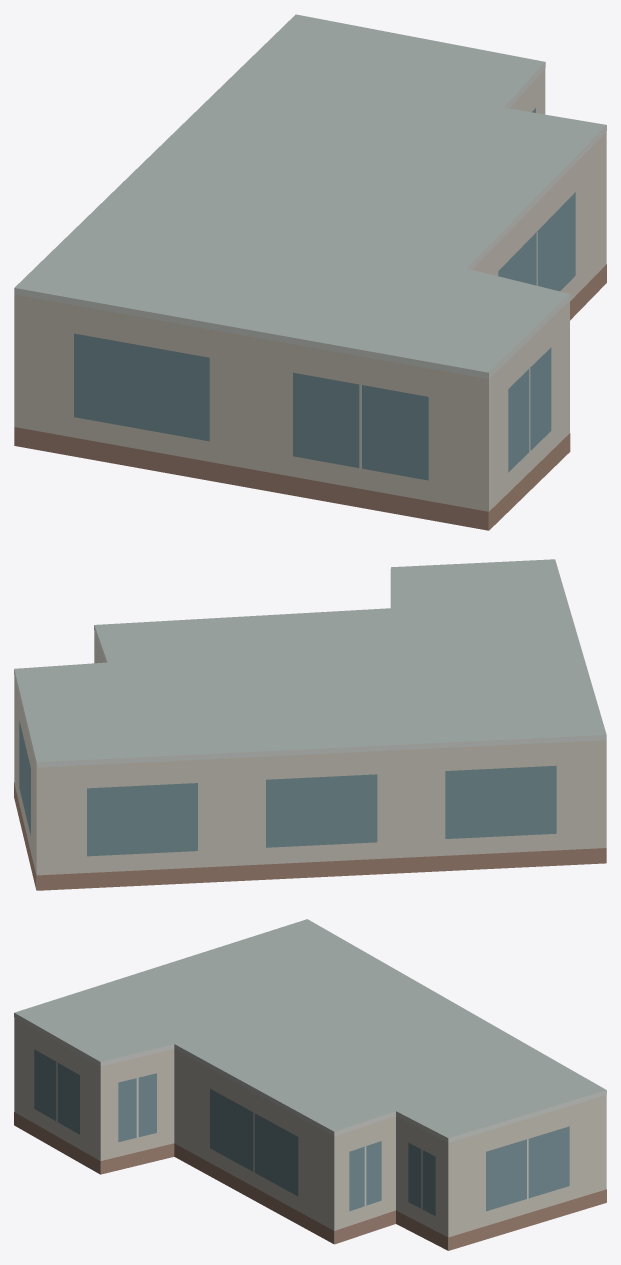
Rendered from survey-upis-32728972.glb.
3 views of the same model, one above another, from view 1: azimuth 30°, elevation 25°; view 2: azimuth 150°, elevation 25°; view 3: azimuth 270°, elevation 25° (orthographic). The views are drawn at different scales.
Parts seen in each view (by area): view 1: survey-upis-32728972.tmp; view 2: survey-upis-32728972.tmp; view 3: survey-upis-32728972.tmp.
Boxes of the visible parts, x1,y1,x2,y2 form: survey-upis-32728972.tmp: (14,14,606,530); survey-upis-32728972.tmp: (14,559,606,890); survey-upis-32728972.tmp: (14,919,606,1250).
Bounding box in the file's own units: 12.75 × 3.05 × 14.56.
